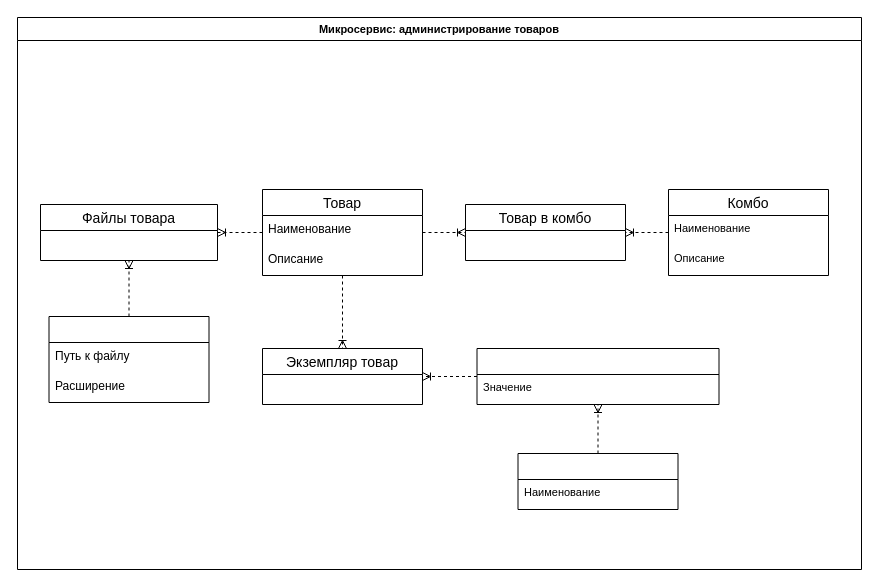
The diagram is 879 pixels wide and 587 high, and some of its shapes have lost their labels. The box of each missing label's shape, as (x1, y1, x2, y2) in pixels:
Значение типа измерения: (476, 348, 719, 404)
Тип измерения: (517, 452, 678, 510)
Файлы: (48, 316, 209, 402)
